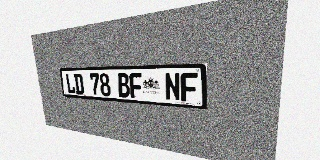7: (89, 73, 101, 96)
8: (99, 73, 111, 96)
B: (117, 73, 130, 98)
D: (73, 73, 84, 95)
F: (180, 73, 198, 102), (129, 73, 143, 99)
L: (65, 74, 76, 94)
N: (164, 73, 181, 101)
